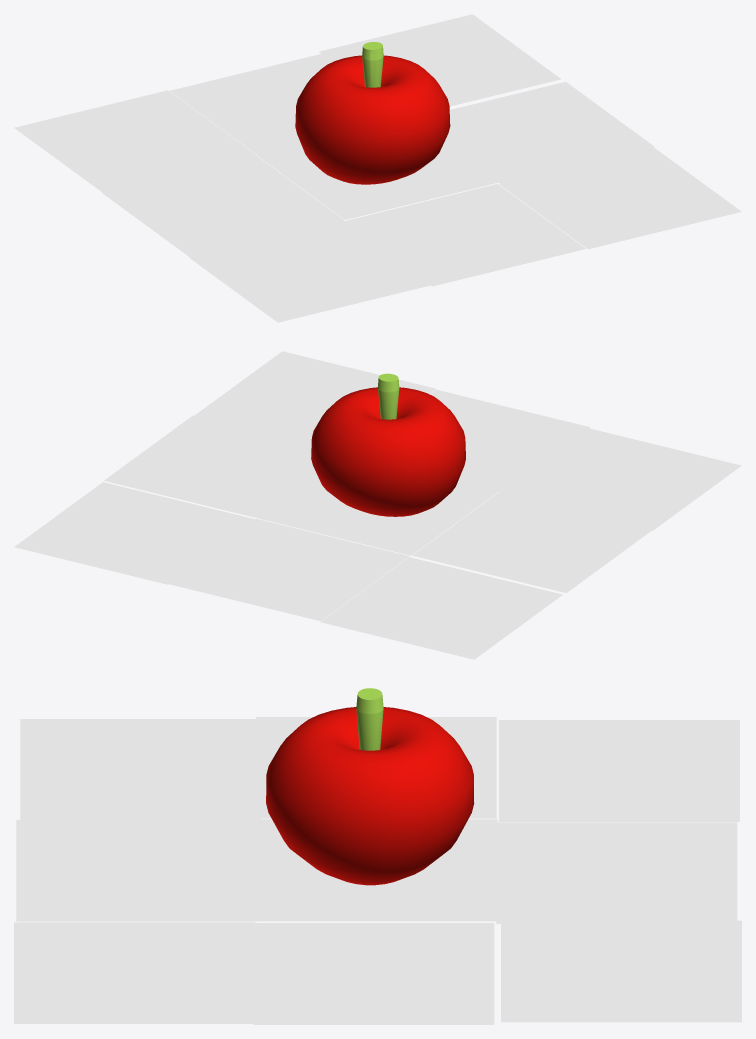
The model's file is Apple.glb.
The picture shows the model from 3 angles, top to bottom: view 1: azimuth 30°, elevation 25°; view 2: azimuth 150°, elevation 25°; view 3: azimuth 270°, elevation 25°; orthographic projection. The views are drawn at different scales.
Parts seen in each view (by area): view 1: apple, grass3, grass2.003, grass2.004, grass2.002, grass2.005, grass2.006, grass2.001, grass2, grass1, top; view 2: apple, grass3, grass2.002, grass2.001, grass2, grass2.005, grass2.006, grass2.003, grass1, grass2.004, top; view 3: apple, grass2.001, grass2.002, grass2.003, grass2.004, grass2.006, grass2.005, grass2, grass1, grass3, top.
Part boxes in pixels (box(x1,y1,x2,y2)): apple: box(295, 55, 450, 184); grass3: box(102, 155, 343, 257); grass2.003: box(499, 147, 741, 249); grass2.004: box(345, 184, 585, 286); grass2.002: box(14, 90, 256, 192); grass2.005: box(189, 220, 430, 322); grass2.006: box(444, 81, 654, 183); grass2.001: box(319, 14, 560, 106); grass2: box(170, 54, 332, 154); grass1: box(256, 142, 498, 219); top: box(362, 42, 383, 87); apple: box(311, 387, 465, 516); grass3: box(412, 490, 654, 593); grass2.002: box(320, 557, 562, 659); grass2.001: box(14, 482, 256, 584); grass2: box(169, 518, 409, 621); grass2.005: box(504, 428, 741, 530); grass2.006: box(104, 415, 316, 517); grass2.003: box(194, 351, 436, 444); grass1: box(257, 474, 499, 555); grass2.004: box(430, 389, 589, 491); top: box(378, 373, 399, 419); apple: box(266, 707, 474, 885); grass2.001: box(501, 920, 741, 1022); grass2.002: box(499, 720, 739, 821); grass2.003: box(14, 922, 254, 1023); grass2.004: box(16, 820, 256, 921); grass2.006: box(253, 923, 494, 1024); grass2.005: box(20, 719, 260, 820); grass2: box(496, 822, 737, 923); grass1: box(256, 819, 497, 921); grass3: box(256, 717, 496, 818); top: box(356, 688, 383, 750).
Size of the model in its own units: 6.01 by 1.58 by 6.04.
